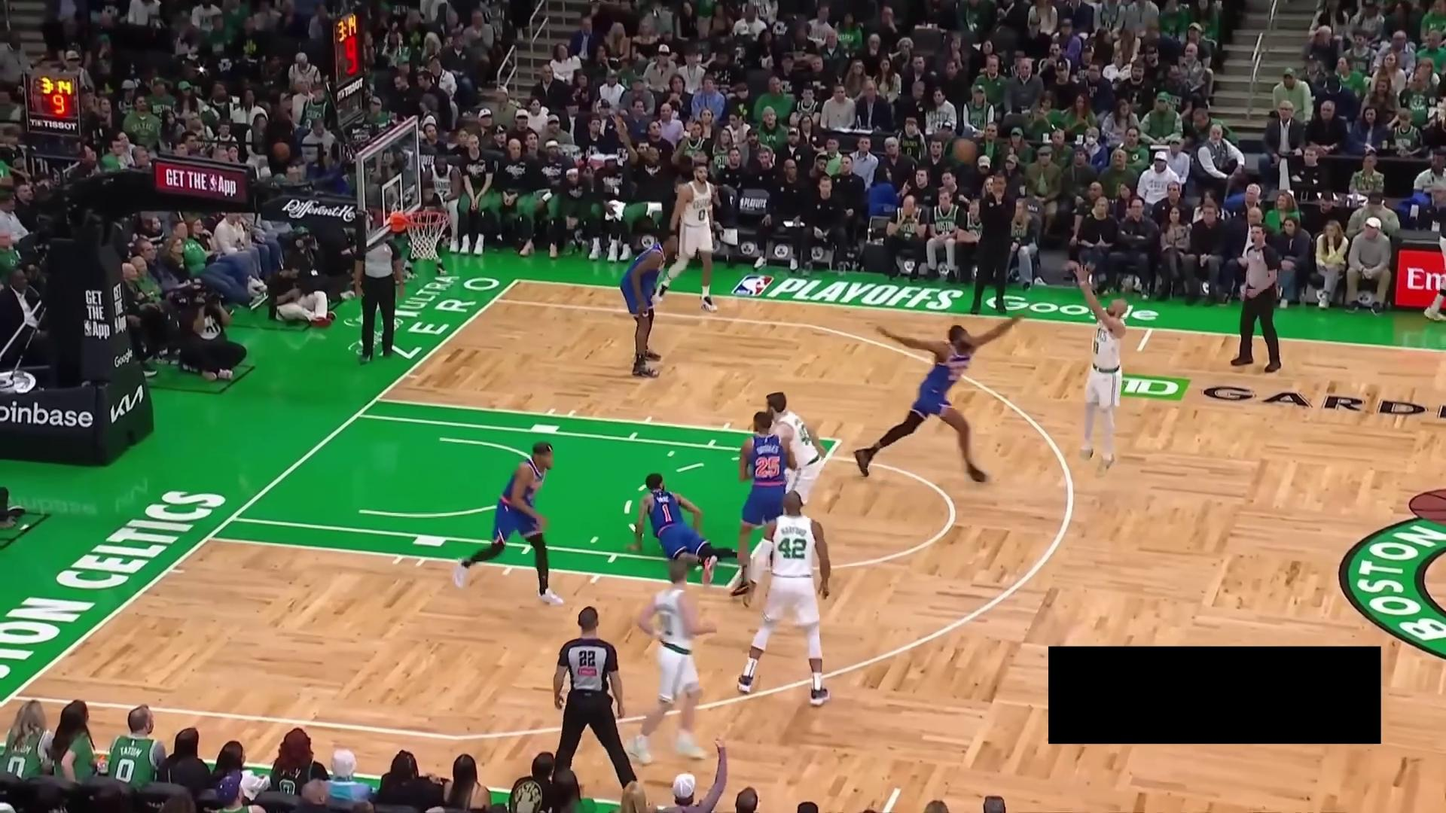ball: (954, 136, 978, 168)
number: (774, 535, 807, 562), (754, 456, 783, 479), (658, 503, 676, 524), (698, 208, 706, 222)
player: (733, 489, 839, 711), (625, 552, 726, 773), (451, 437, 570, 613), (626, 469, 754, 586), (730, 420, 798, 600), (657, 162, 723, 316), (617, 229, 684, 379), (757, 390, 829, 520)
player-jump-shot: (1072, 262, 1133, 476)
player-shot-block: (851, 310, 1028, 489)
referee: (547, 603, 644, 791), (1221, 221, 1288, 377), (351, 231, 405, 363)
rim: (405, 207, 450, 231)
